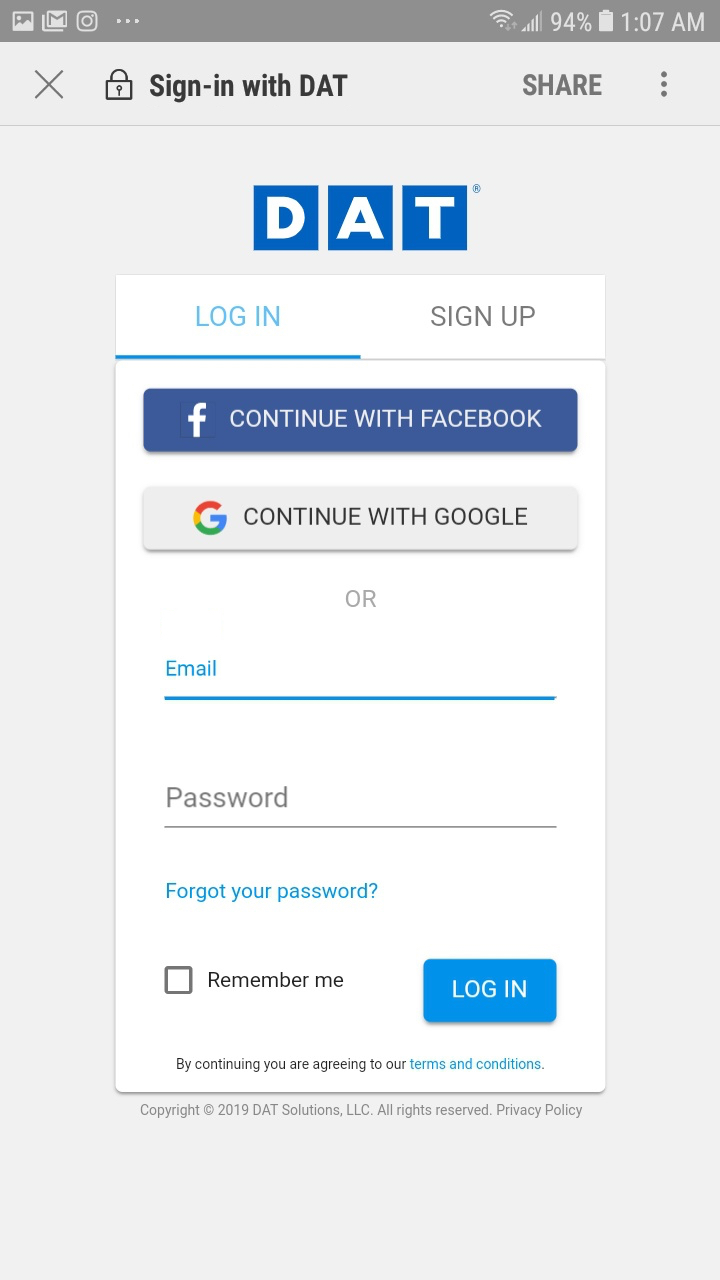CheckedTextView: (164, 965, 344, 995)
EditText: (164, 786, 558, 829), (164, 659, 558, 701)
Icon: (106, 69, 134, 102), (35, 70, 65, 100), (658, 66, 668, 100)
Image: (253, 184, 482, 252)
Text: (141, 1103, 583, 1119), (150, 73, 349, 104), (177, 1057, 545, 1073), (167, 882, 379, 903), (167, 786, 289, 809), (431, 306, 536, 328), (209, 971, 344, 988), (197, 305, 281, 328), (522, 74, 603, 97), (167, 659, 217, 677), (346, 590, 377, 608)
TextButton: (143, 486, 578, 551), (144, 388, 578, 453), (423, 959, 557, 1023)
UpperTaskBar: (1, 1, 720, 43)
